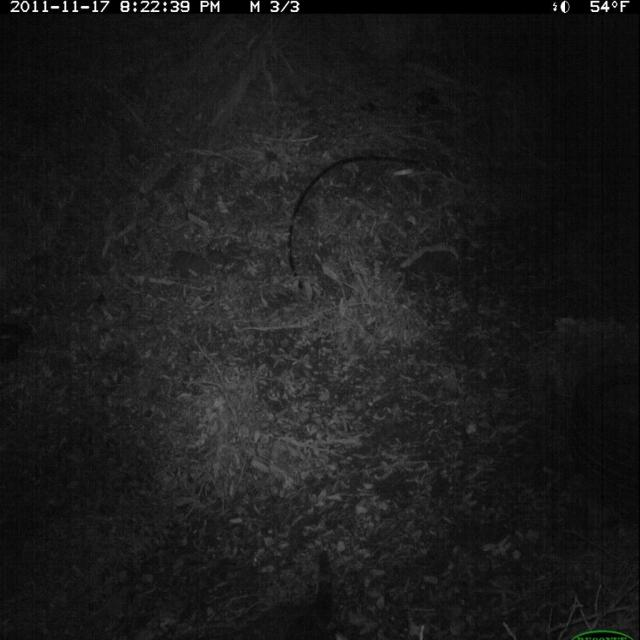cat: (251, 529, 347, 640)
